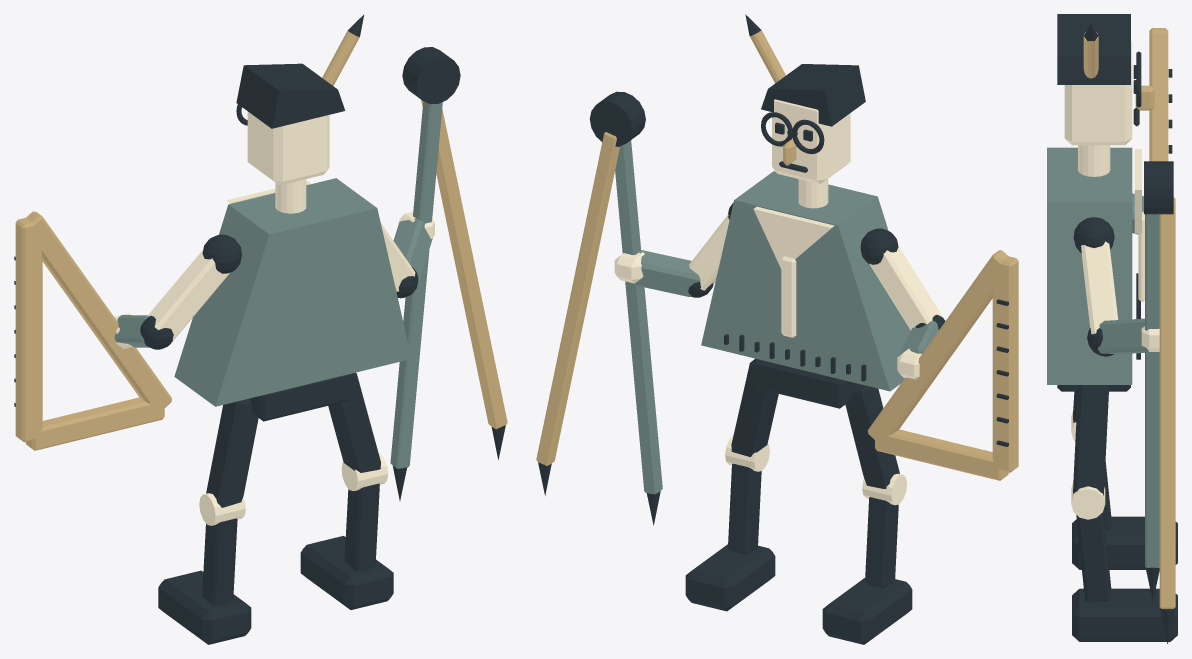
3 views of the same model, side by side, from view 1: azimuth 30°, elevation 25°; view 2: azimuth 150°, elevation 25°; view 3: azimuth 270°, elevation 25° (orthographic). The views are drawn at different scales.
Parts seen in each view (by area): view 1: triangular_drafting_coat, set_square_upright, compass_fixed_leg, compass_pencil_leg, set_square_diagonal, angular_hair, long_face, left_shoe, right_shoe, left_thigh, set_square_base, left_upper_arm (+14 smaller); view 2: triangular_drafting_coat, compass_pencil_leg, compass_fixed_leg, set_square_diagonal, set_square_upright, angular_hair, right_shoe, left_shoe, long_face, set_square_base, belt, left_thigh (+16 smaller); view 3: triangular_drafting_coat, compass_pencil_leg, compass_fixed_leg, right_shoe, angular_hair, long_face, right_thigh, set_square_diagonal, left_shoe, right_shin, right_upper_arm, compass_hinge_pin (+15 smaller).
Boxes of the visible parts, bbox=[...] form: triangular_drafting_coat: bbox=[174, 178, 411, 406]; set_square_upright: bbox=[15, 217, 42, 442]; compass_fixed_leg: bbox=[390, 101, 442, 468]; compass_pencil_leg: bbox=[421, 100, 507, 429]; set_square_diagonal: bbox=[26, 211, 171, 413]; angular_hair: bbox=[236, 63, 345, 128]; long_face: bbox=[247, 111, 329, 185]; left_shoe: bbox=[158, 570, 251, 644]; right_shoe: bbox=[300, 536, 393, 609]; left_thigh: bbox=[206, 398, 258, 507]; set_square_base: bbox=[26, 397, 164, 450]; left_upper_arm: bbox=[148, 249, 229, 340]; triangular_drafting_coat: bbox=[701, 171, 910, 391]; compass_pencil_leg: bbox=[536, 132, 619, 465]; compass_fixed_leg: bbox=[615, 140, 662, 494]; set_square_diagonal: bbox=[867, 250, 1008, 444]; set_square_upright: bbox=[992, 256, 1018, 472]; angular_hair: bbox=[761, 64, 865, 126]; right_shoe: bbox=[685, 544, 775, 611]; left_shoe: bbox=[822, 578, 912, 644]; long_face: bbox=[772, 99, 850, 184]; set_square_base: bbox=[875, 429, 1008, 480]; belt: bbox=[753, 359, 857, 408]; left_thigh: bbox=[845, 384, 899, 488]; triangular_drafting_coat: bbox=[1047, 147, 1132, 384]; compass_pencil_leg: bbox=[1159, 197, 1175, 608]; compass_fixed_leg: bbox=[1145, 214, 1159, 567]; right_shoe: bbox=[1072, 588, 1177, 641]; angular_hair: bbox=[1057, 14, 1130, 84]; long_face: bbox=[1064, 41, 1132, 145]; right_thigh: bbox=[1073, 385, 1109, 495]; set_square_diagonal: bbox=[1149, 30, 1168, 161]; left_shoe: bbox=[1072, 516, 1177, 569]; right_shin: bbox=[1076, 511, 1111, 602]; right_upper_arm: bbox=[1081, 241, 1118, 334]; compass_hinge_pin: bbox=[1144, 161, 1173, 214].
Bounding box in the file's own units: 2 × 2.29 × 0.445.
